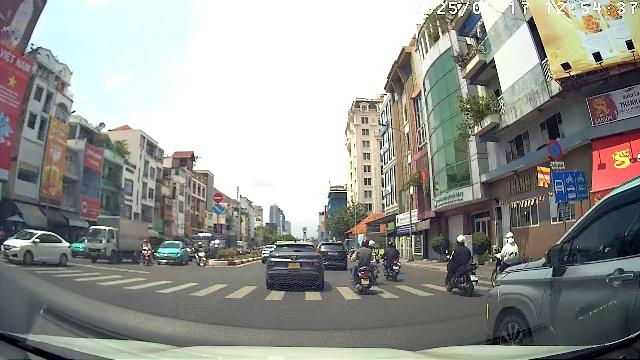131a-cam-do-xe: (547, 139, 562, 160)
